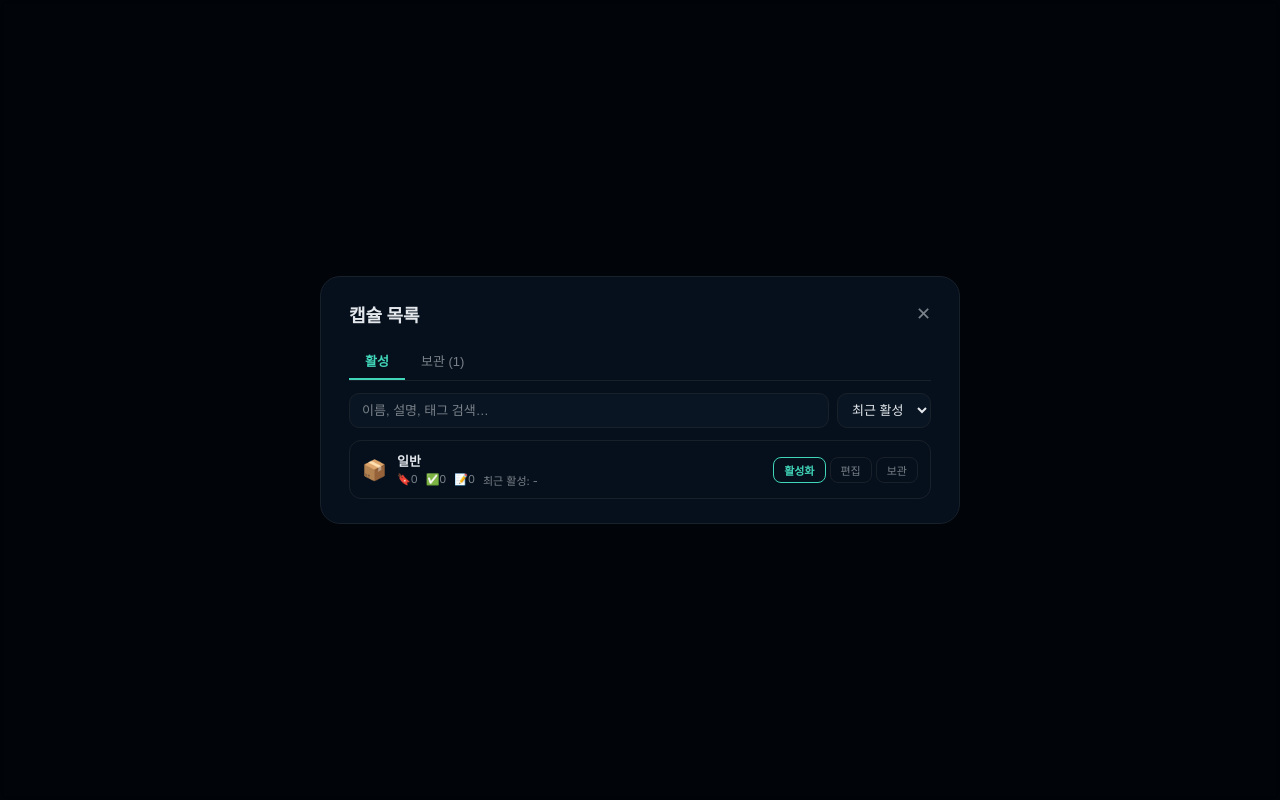
Scenario: CapsuleListPanel › AC-026: 보관 탭 분리 › "보관" 탭에서 archived 캡슐만 표시된다
The width and height of the screenshot is (1280, 800).
Click the tab "보관 (1)": x=443, y=362 [405,343,480,380]
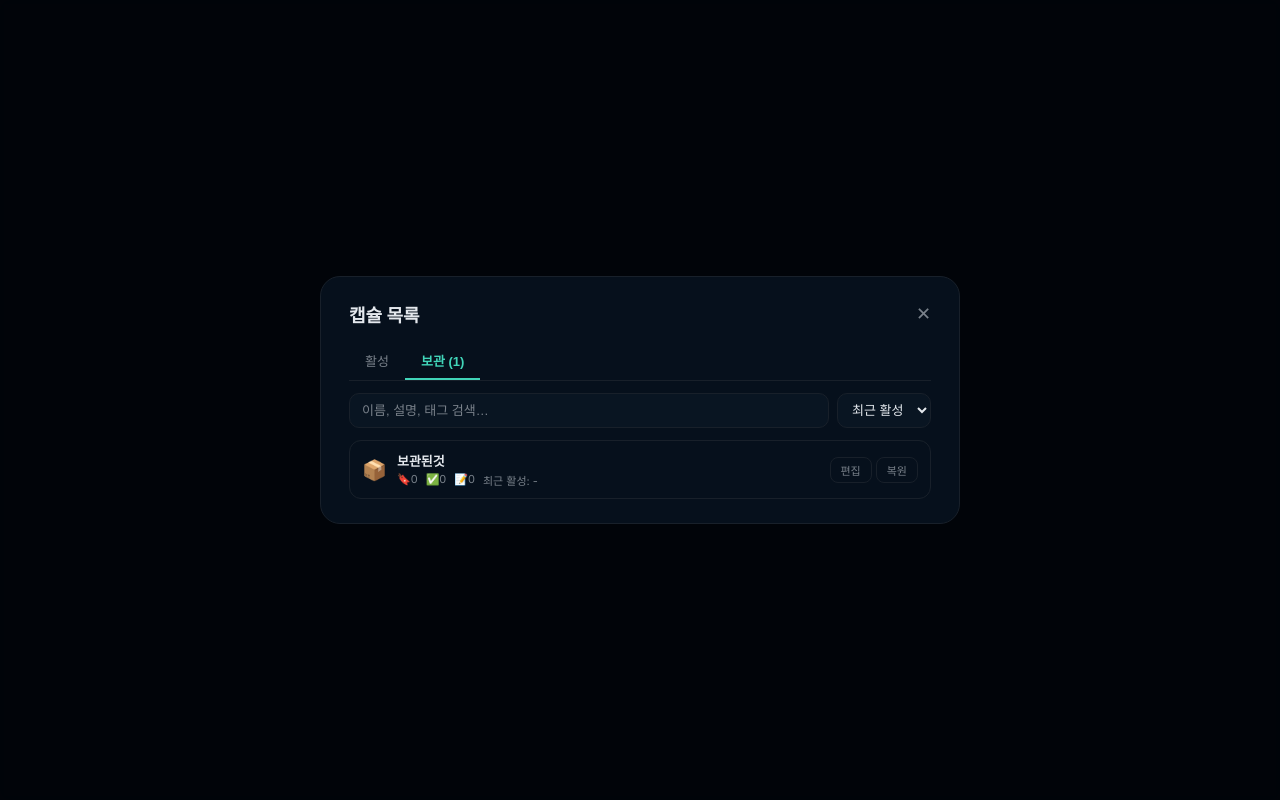
Now the text "일반" is gone
Now the text "보관된것" is shown, box [397,451,445,470]
